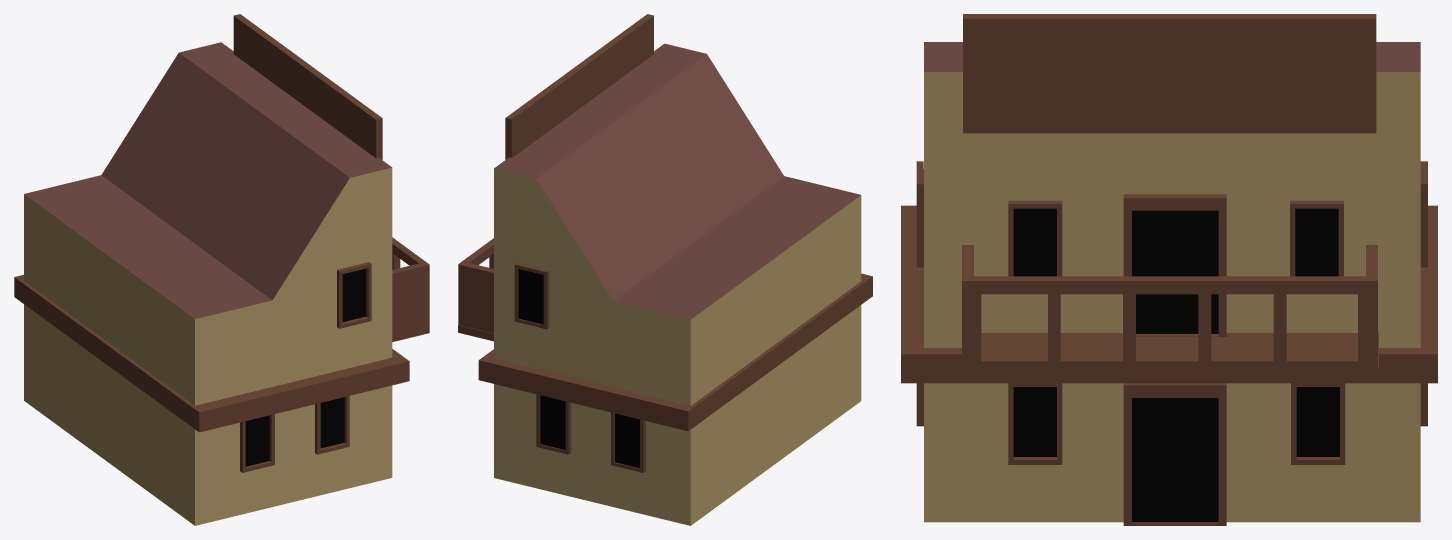
Rendered from ww_building3.fbx.
3 renders of one model, left to right at view 1: azimuth 30°, elevation 25°; view 2: azimuth 150°, elevation 25°; view 3: azimuth 270°, elevation 25°, orthographic. The views are drawn at different scales.
Parts seen in each view (by area): view 1: Cube; view 2: Cube; view 3: Cube.
Part boxes in pixels (box(x1,y1,x2,y2)): Cube: box(14, 14, 429, 525); Cube: box(458, 14, 872, 525); Cube: box(901, 14, 1437, 525).
Size of the model in its own units: 350 by 464 by 446.
